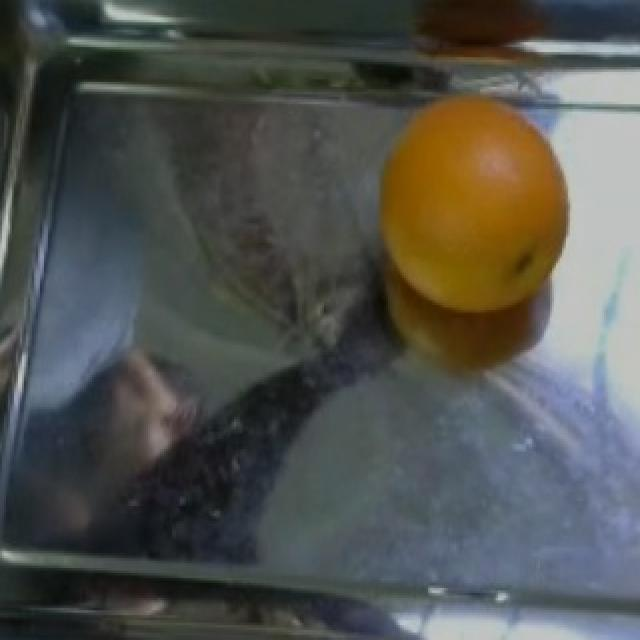Fruit: (366, 82, 586, 330)
